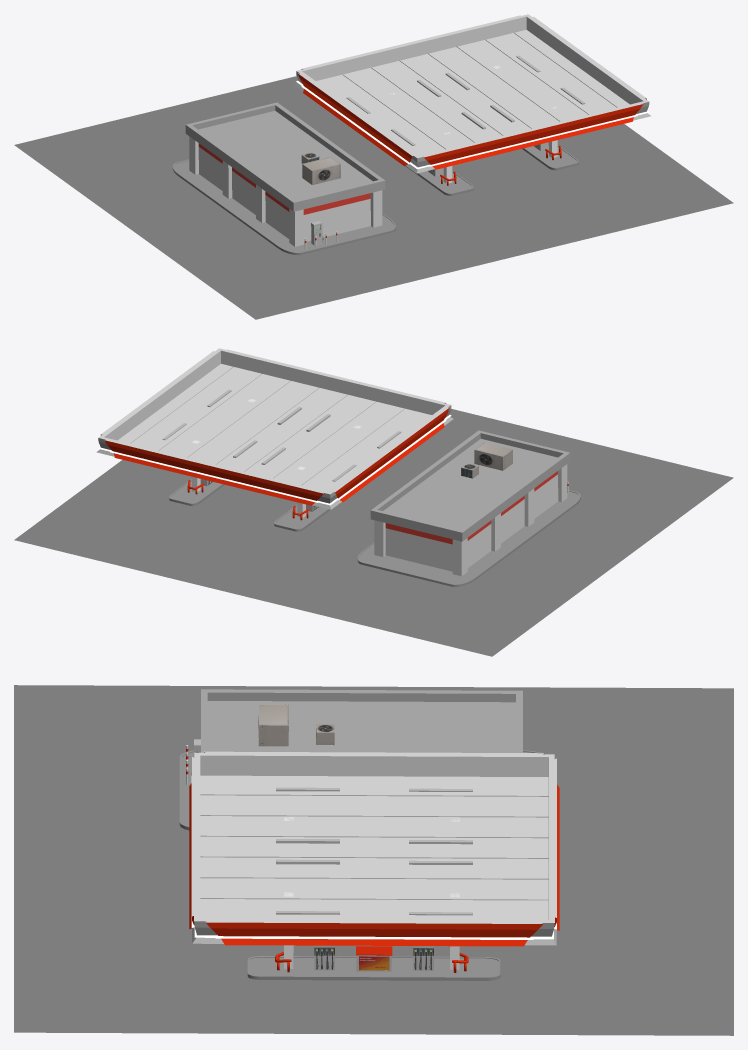
File: small_red_gas_station.glb
The picture shows the model from 3 angles, top to bottom: view 1: azimuth 30°, elevation 25°; view 2: azimuth 150°, elevation 25°; view 3: azimuth 270°, elevation 25°; orthographic projection. The views are drawn at different scales.
Parts seen in each view (by area): view 1: Plane_asphalt_0, Plane.001_walls_0, Plane.001_ac_0, Plane.005_glowin_0; view 2: Plane_asphalt_0, Plane.001_walls_0, Plane.001_ac_0, Plane.005_glowin_0; view 3: Plane_asphalt_0, Plane.001_walls_0, Plane.001_ac_0, Plane.005_glowin_0.
Part boxes in pixels (x1,y1,x2,y2): Plane_asphalt_0: [14, 76, 733, 319]; Plane.001_walls_0: [172, 14, 651, 255]; Plane.001_ac_0: [301, 152, 340, 184]; Plane.005_glowin_0: [296, 80, 648, 169]; Plane_asphalt_0: [14, 409, 733, 656]; Plane.001_walls_0: [96, 348, 580, 586]; Plane.001_ac_0: [461, 442, 512, 478]; Plane.005_glowin_0: [98, 414, 451, 505]; Plane_asphalt_0: [14, 685, 733, 1035]; Plane.001_walls_0: [179, 689, 559, 980]; Plane.001_ac_0: [258, 704, 334, 746]; Plane.005_glowin_0: [191, 776, 556, 939].
Bounding box in the file's own units: 49.5 × 6.44 × 43.34.
18 materials, 18 textured.
